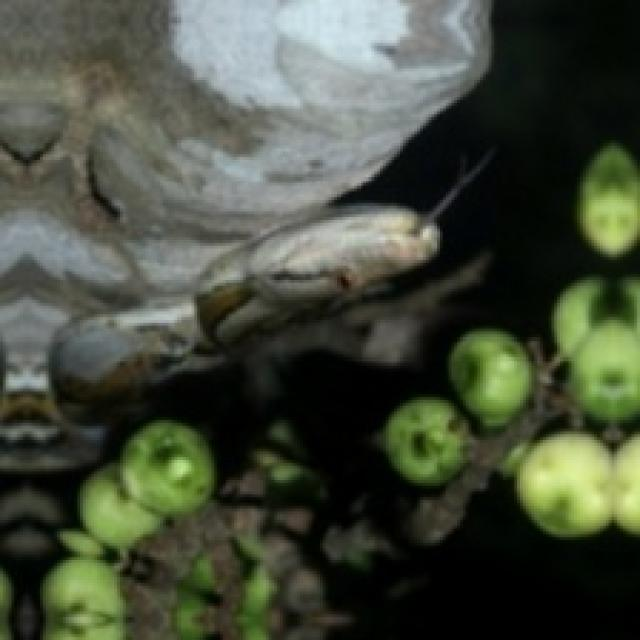reticulated python: (0, 208, 439, 472)
